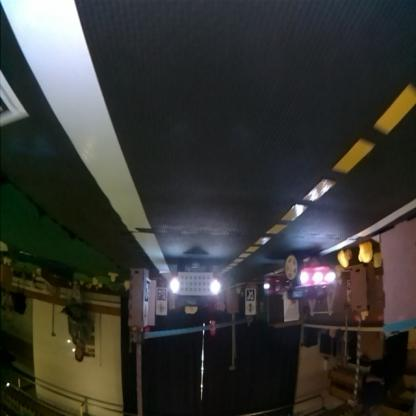Duckie: (360, 244, 372, 262), (340, 252, 352, 268), (112, 272, 119, 284), (364, 311, 370, 323)
Duckiebot: (266, 256, 336, 298), (172, 264, 221, 306)
Intersection sign: (160, 302, 166, 314)
QR code: (249, 290, 254, 302), (160, 290, 166, 300)
